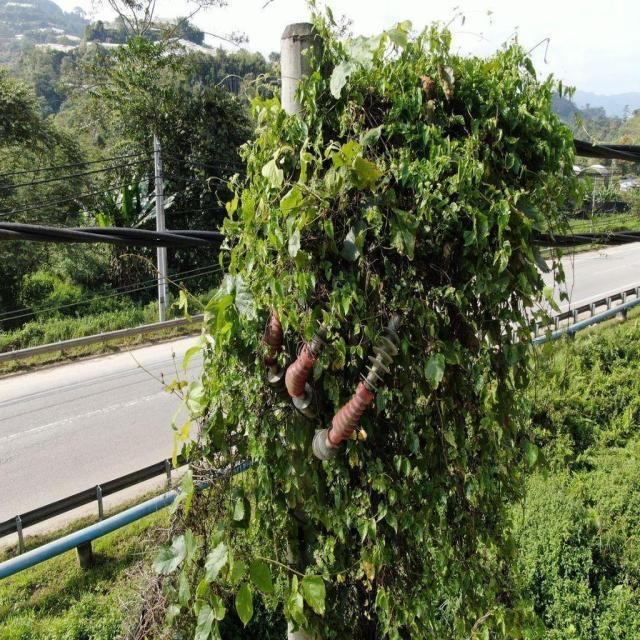critical vegetation: (200, 26, 583, 640)
